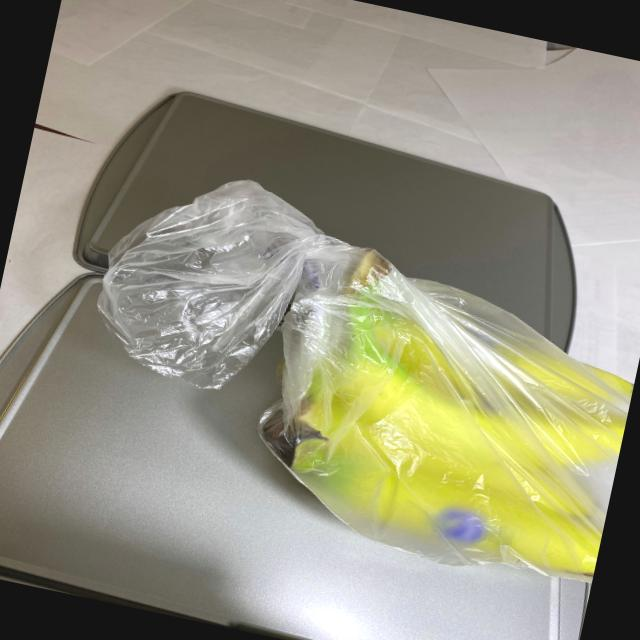banana: (232, 218, 640, 617)
